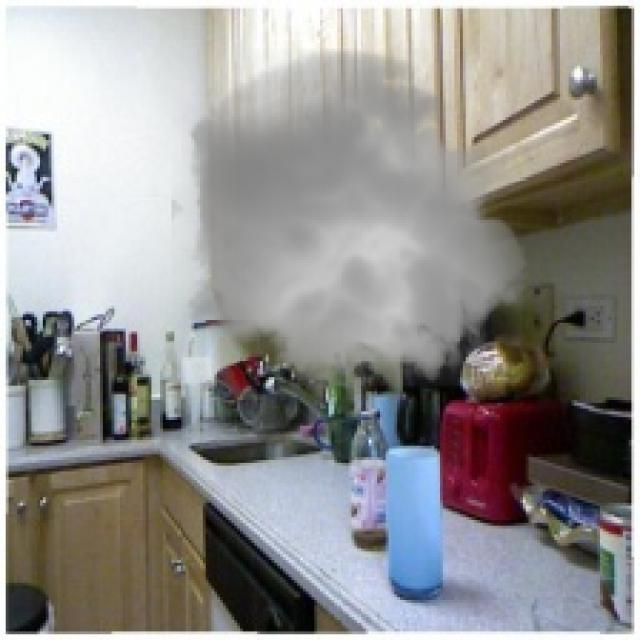smoke: (171, 37, 540, 403)
